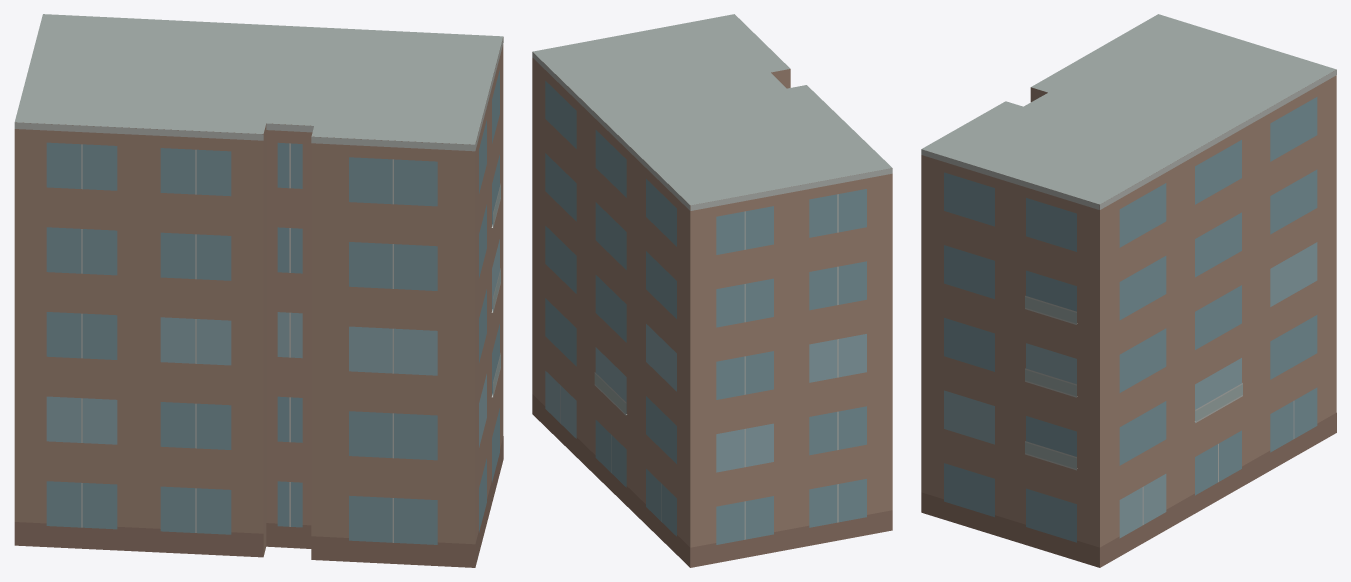
Rendered from survey-upis-32652637.glb.
3 views of the same model, side by side, from view 1: azimuth 30°, elevation 25°; view 2: azimuth 150°, elevation 25°; view 3: azimuth 270°, elevation 25° (orthographic). The views are drawn at different scales.
Visible parts, largest first — view 1: survey-upis-32652637.tmp; view 2: survey-upis-32652637.tmp; view 3: survey-upis-32652637.tmp.
Part boxes in pixels (x1,y1,x2,y2): survey-upis-32652637.tmp: (14,14,503,567); survey-upis-32652637.tmp: (532,14,892,567); survey-upis-32652637.tmp: (921,14,1336,567).
Size of the model in its own units: 17.55 by 15.6 by 16.18.
